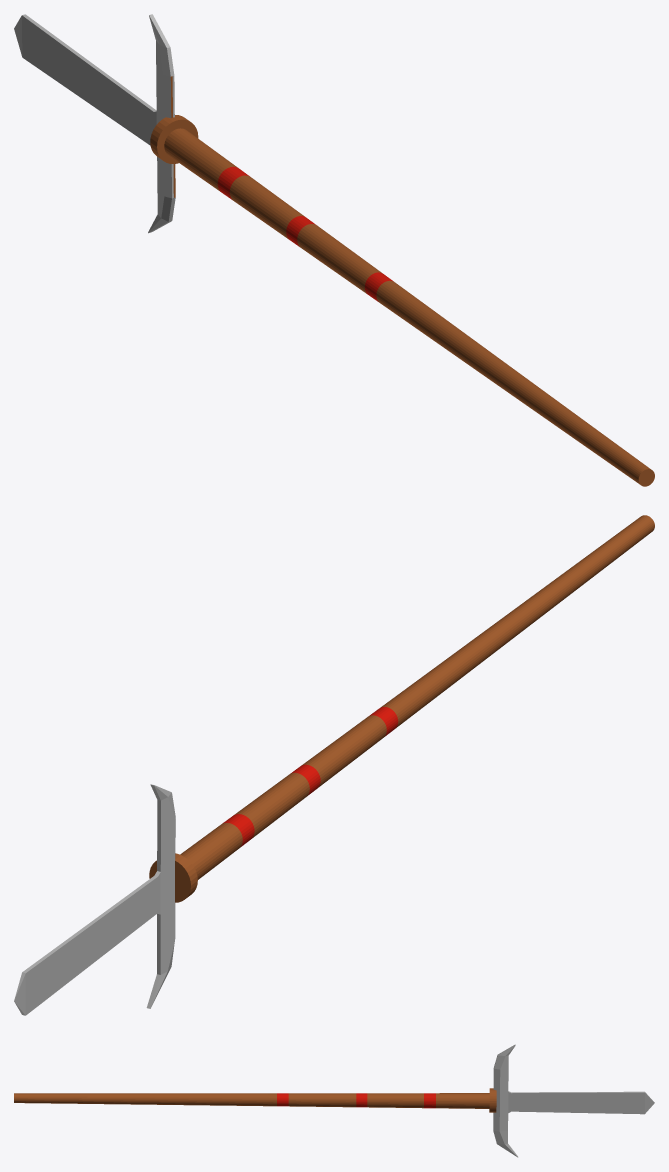
The model's file is JominonjiEquip 1.fbx.
3 views of the same model, one above another, from view 1: azimuth 30°, elevation 25°; view 2: azimuth 150°, elevation 25°; view 3: azimuth 270°, elevation 25° (orthographic). The views are drawn at different scales.
Visible parts, largest first — view 1: Cube; view 2: Cube; view 3: Cube.
Boxes of the visible parts, bbox=[...] form: Cube: bbox=[14, 14, 654, 486]; Cube: bbox=[14, 515, 654, 1015]; Cube: bbox=[14, 1044, 654, 1157].
Bounding box in the file's own units: 47 × 239 × 1239.
